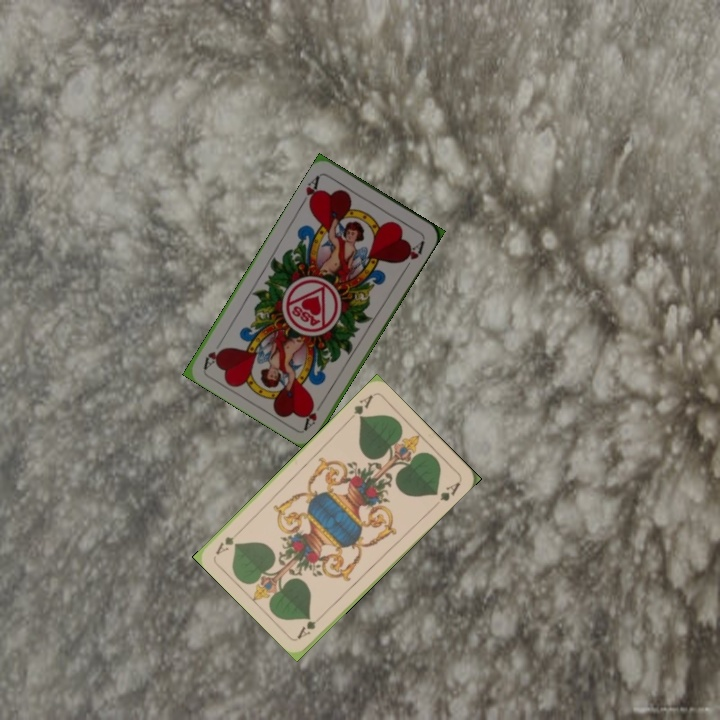GA: (293, 609, 327, 641), (349, 390, 376, 422)
HA: (297, 171, 323, 210), (300, 400, 320, 432)
